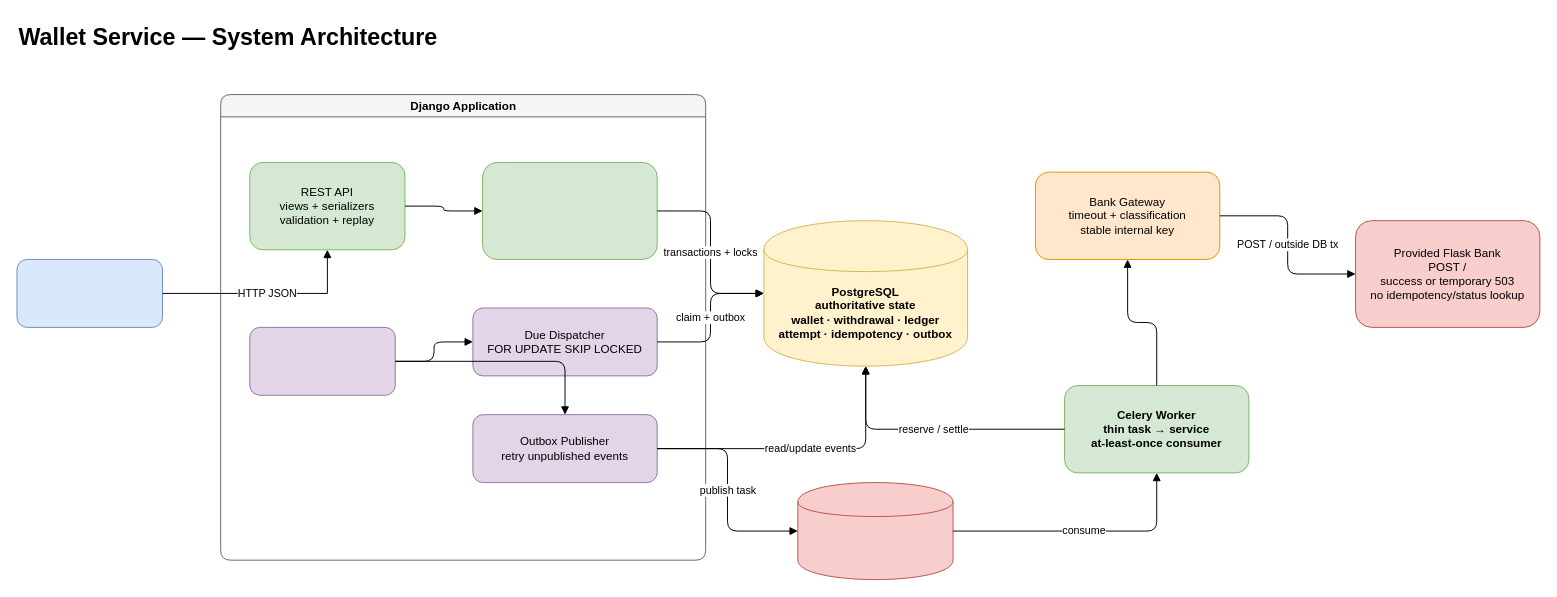
Some shapes in this 1557 by 597 pixel diagram are drawn without their labels. Here are the shapes that lost their labels. From the top down, the centre of each, then its label:
the point at 569,210: Application Services deposit · schedule reserve · settle · retry
the point at 89,293: Client Idempotency-Key
the point at 322,360: Celery Beat periodic schedules
the point at 875,531: Redis Celery broker/results (not financial truth)
